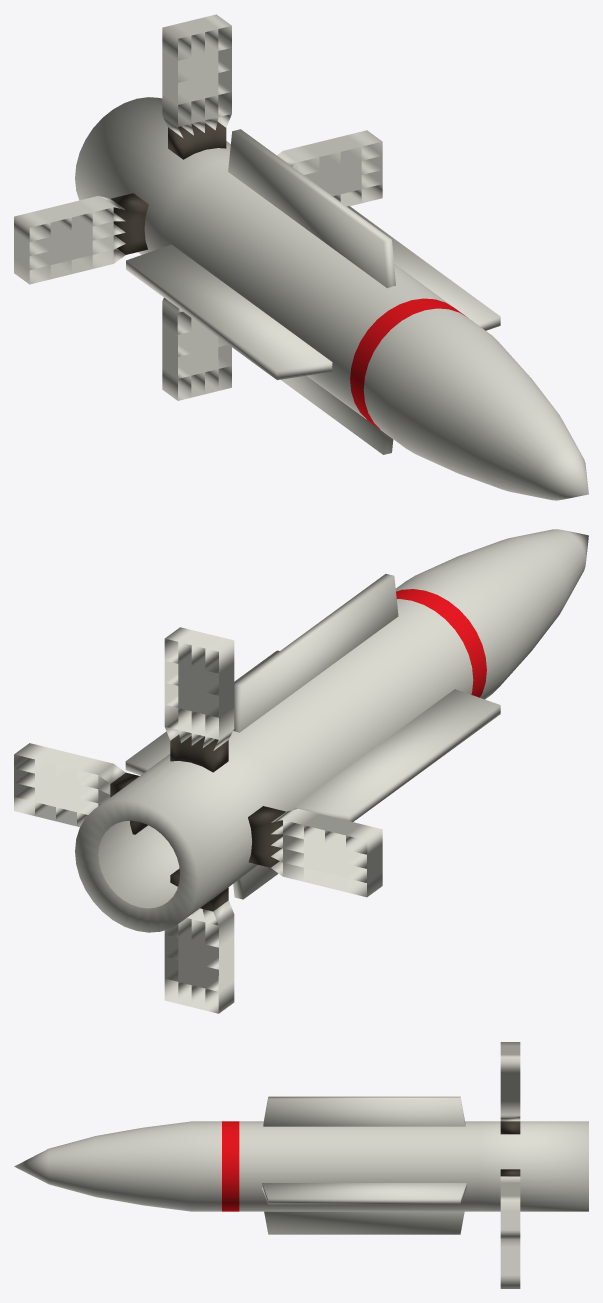
The model's file is Vympel_R-77.fbx.
The picture shows the model from 3 angles, top to bottom: view 1: azimuth 30°, elevation 25°; view 2: azimuth 150°, elevation 25°; view 3: azimuth 270°, elevation 25°; orthographic projection. The views are drawn at different scales.
Parts seen in each view (by area): view 1: Cylinder; view 2: Cylinder; view 3: Cylinder.
Part boxes in pixels (<box>): Cylinder: <box>14,14,588,500</box>; Cylinder: <box>14,529,588,1013</box>; Cylinder: <box>14,1042,588,1288</box>.
Bounding box in the file's own units: 122 × 119 × 270.
